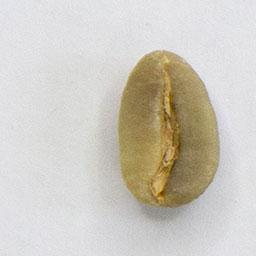longberry: (115, 47, 224, 212)
